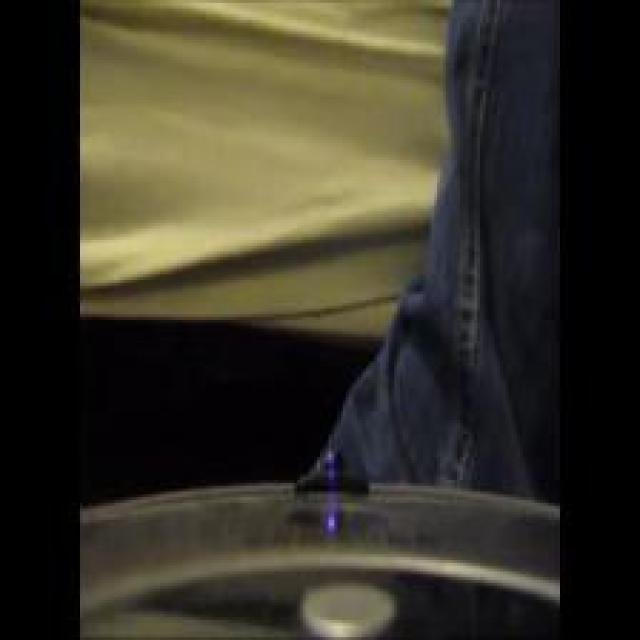other: (76, 113, 421, 374)
